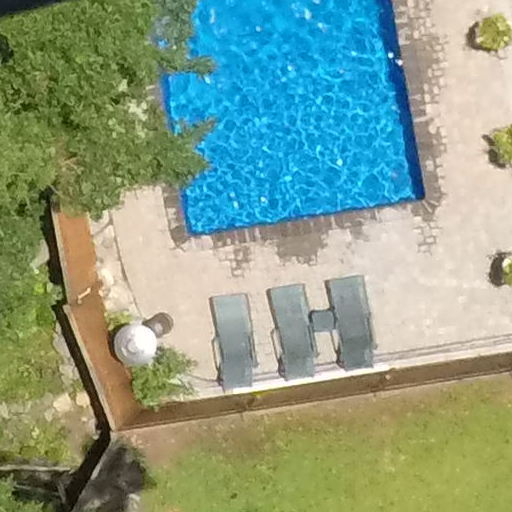flower pot: (463, 10, 512, 55), (481, 119, 512, 170), (481, 243, 512, 287)
pool: (139, 2, 426, 248)
